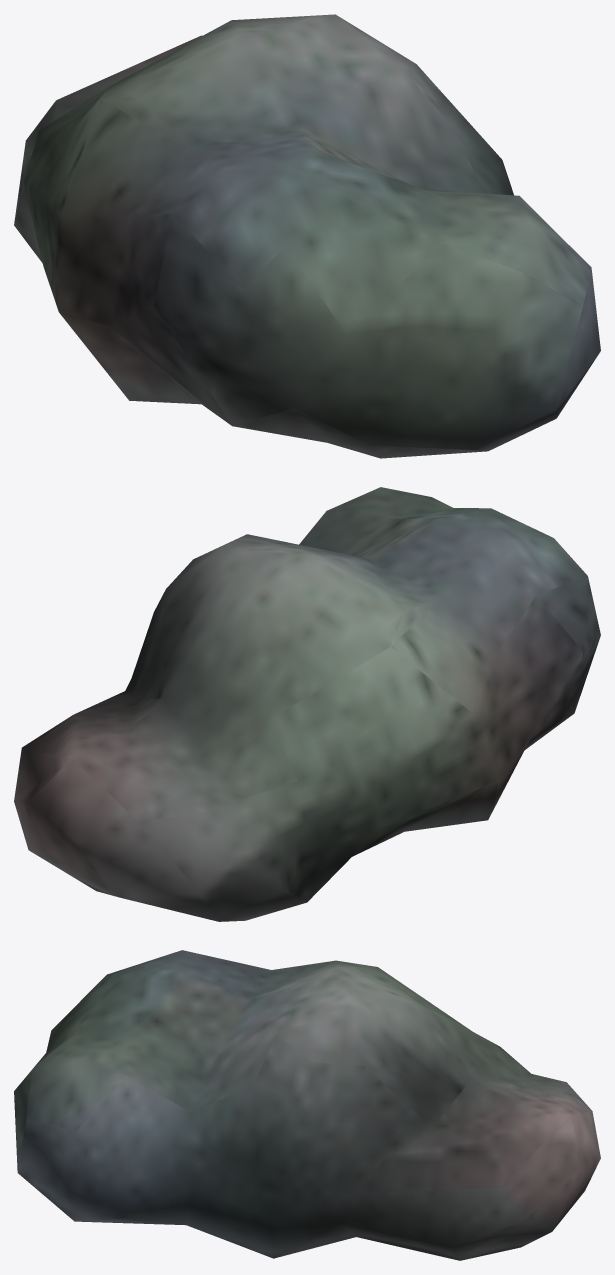
File: Rocks 09.glb
3 renders of one model, top to bottom at view 1: azimuth 30°, elevation 25°; view 2: azimuth 150°, elevation 25°; view 3: azimuth 270°, elevation 25°, orthographic. The views are drawn at different scales.
Parts seen in each view (by area): view 1: Rock 09; view 2: Rock 09; view 3: Rock 09.
Part boxes in pixels (<box>): Rock 09: <box>14,14,600,458</box>; Rock 09: <box>14,487,600,921</box>; Rock 09: <box>14,950,600,1260</box>.
Size of what is drawn, in the model's own units: 0.8773 by 0.6897 by 1.44.
1 material, 1 textured.
